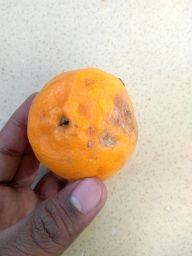Unripe: (26, 67, 137, 180)
